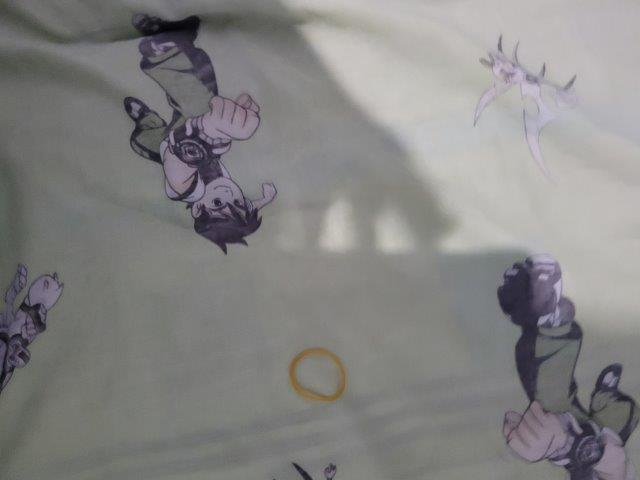karet: (288, 348, 347, 404)
